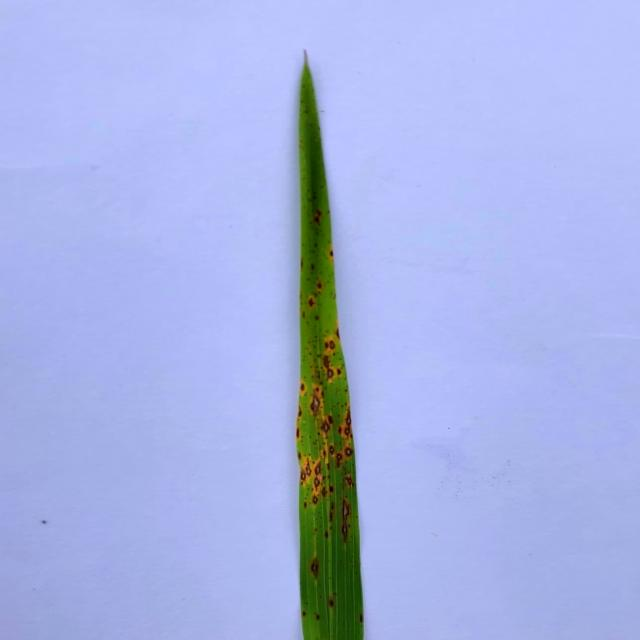brown spot: (327, 501, 336, 523), (325, 414, 336, 424), (328, 595, 335, 609), (357, 612, 364, 624), (335, 326, 340, 342), (323, 530, 330, 541), (315, 613, 323, 622), (328, 483, 334, 495), (337, 425, 343, 437), (328, 247, 334, 259), (302, 500, 308, 510), (301, 609, 307, 617)
leaf blast: (316, 337, 342, 382), (340, 496, 350, 544), (342, 408, 353, 440), (308, 389, 322, 412), (309, 556, 321, 581), (311, 461, 323, 478), (312, 279, 326, 293), (319, 421, 332, 435), (333, 454, 345, 469), (295, 404, 305, 421), (312, 475, 322, 492), (304, 458, 313, 475), (306, 295, 316, 310), (342, 446, 354, 458), (298, 380, 308, 394), (327, 442, 336, 457), (345, 474, 355, 487), (319, 485, 328, 499), (312, 493, 320, 507), (295, 449, 303, 461), (299, 471, 307, 482), (296, 428, 301, 439)
